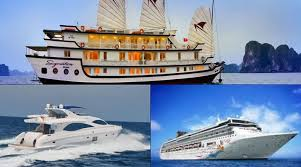tau_dansu: (32, 3, 240, 81), (155, 115, 297, 160), (13, 104, 123, 148)
